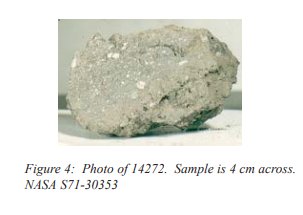Breccia: (66, 25, 236, 140), (120, 48, 213, 115)
